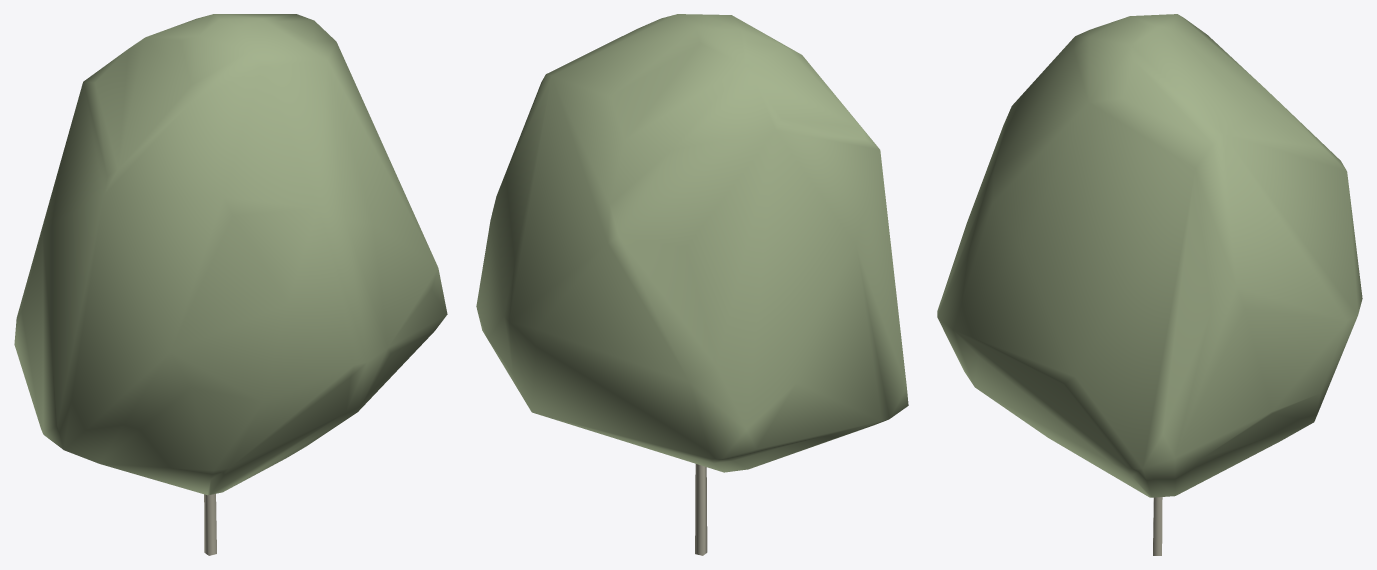
The model's file is Tilia_tomentosa__Middle-aged-Lollipop.glb.
3 views of the same model, side by side, from view 1: azimuth 30°, elevation 25°; view 2: azimuth 150°, elevation 25°; view 3: azimuth 270°, elevation 25° (orthographic). The views are drawn at different scales.
Visible parts, largest first — view 1: mesh; view 2: mesh; view 3: mesh.
Part boxes in pixels (x1=…): mesh: x1=14, y1=14, x2=447, y2=555; mesh: x1=476, y1=14, x2=908, y2=555; mesh: x1=937, y1=14, x2=1362, y2=555.
Size of the model in its own units: 8.38 by 10.57 by 7.69.
